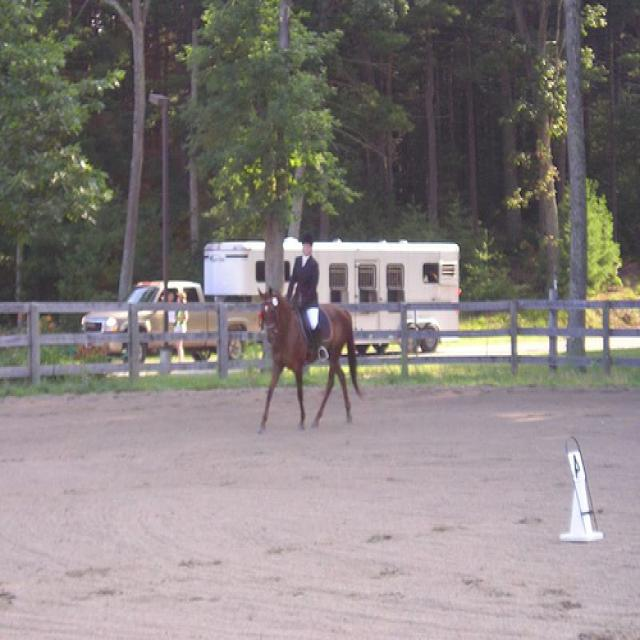light_vehicle: (80, 276, 262, 368)
